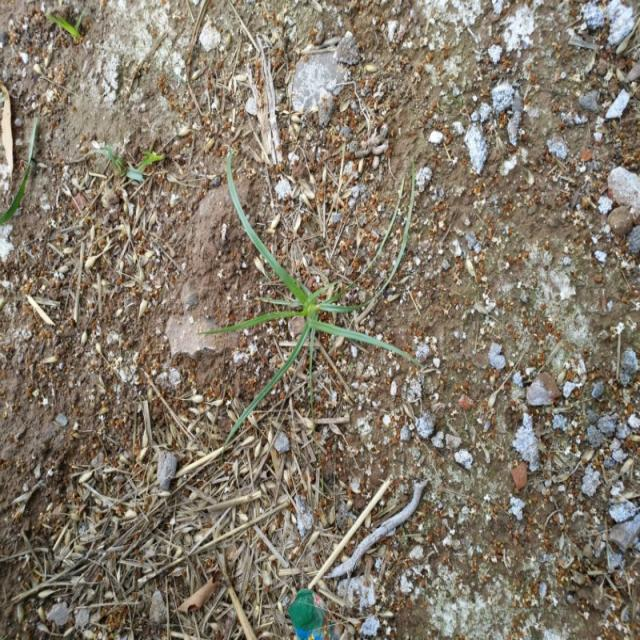sedge: (178, 175, 436, 439)
